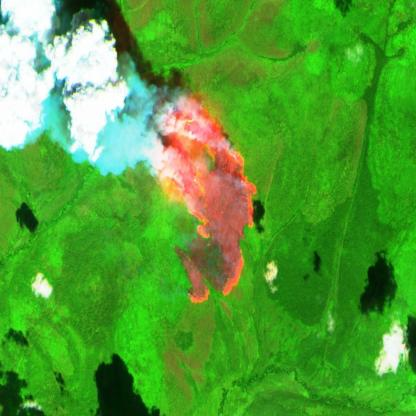fire: (144, 87, 260, 306)
